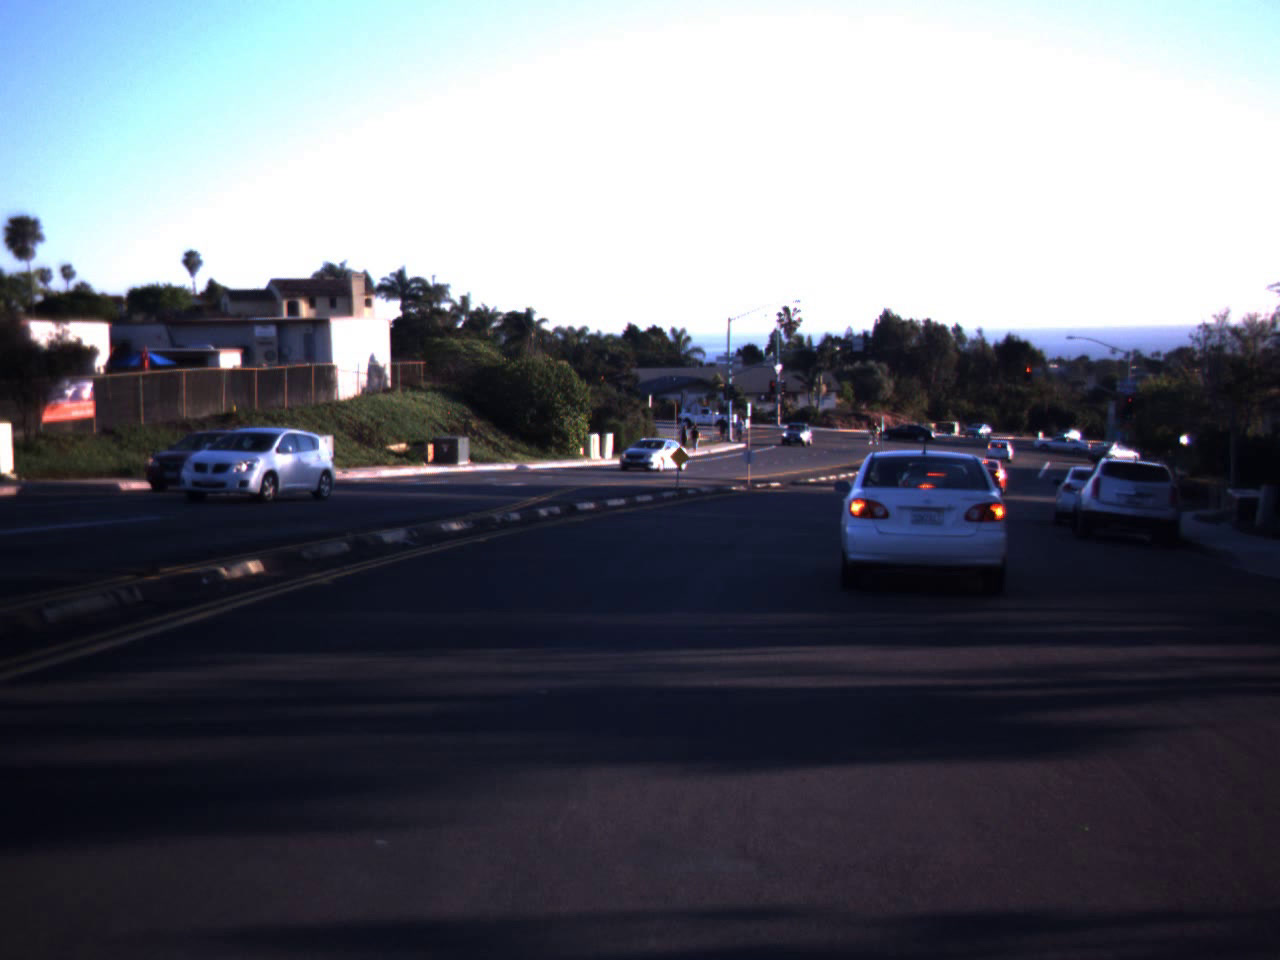stop: (1022, 366, 1034, 384)
